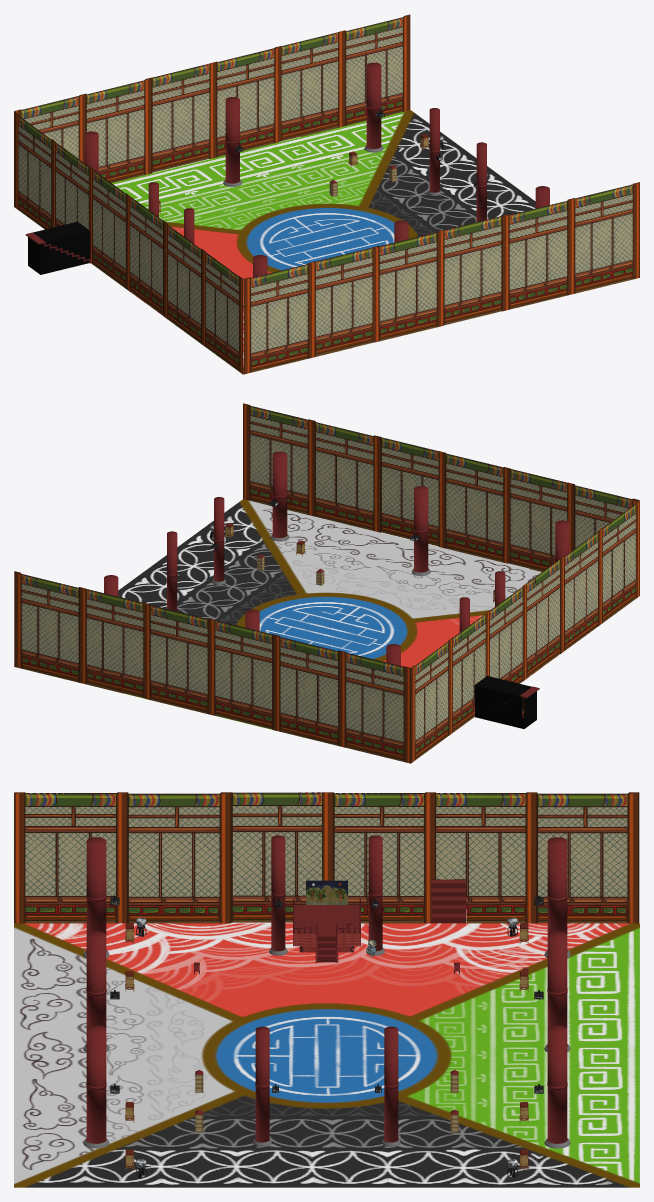
3 views of the same model, one above another, from view 1: azimuth 30°, elevation 25°; view 2: azimuth 150°, elevation 25°; view 3: azimuth 270°, elevation 25° (orthographic). The views are drawn at different scales.
Parts seen in each view (by area): view 1: Plane.001, Plane, Plane.002, Plane.003, Main Pillar.005, Main Pillar.002, Main Pillar.004; view 2: Plane.002, Plane, Plane.001, Plane.003, Main Pillar.005, Main Pillar.002, Main Pillar.004; view 3: Plane, Plane.003, Main Pillar.005, Main Pillar.002, Main Pillar.004, top, Stair.002, Plane.004, Light2.002, Vase, Light2.001, Stair.001.
Boxes of the visible parts, x1,y1,x2,y2 form: Plane.001: (243, 182, 639, 374); Plane: (112, 110, 535, 374); Plane.002: (14, 14, 410, 206); Plane.003: (14, 111, 242, 374); Main Pillar.005: (84, 62, 549, 277); Main Pillar.002: (428, 108, 486, 221); Main Pillar.004: (148, 182, 194, 243); Plane.002: (14, 571, 410, 763); Plane: (118, 499, 560, 729); Plane.001: (243, 403, 639, 571); Plane.003: (411, 500, 639, 763); Main Pillar.005: (104, 451, 569, 665); Main Pillar.002: (167, 497, 225, 611); Main Pillar.004: (459, 571, 505, 632); Plane: (14, 923, 639, 1187); Plane.003: (14, 792, 639, 923); Main Pillar.005: (83, 837, 570, 1148); Main Pillar.002: (253, 1026, 400, 1146); Main Pillar.004: (269, 835, 384, 955); top: (293, 905, 360, 946); Stair.002: (431, 879, 465, 923); Plane.004: (306, 880, 347, 904); Light2.002: (125, 923, 528, 1170); Vase: (136, 917, 517, 1178); Light2.001: (125, 971, 528, 1122); Stair.001: (317, 934, 336, 962).
Size of the model in its own units: 10408 by 2132 by 9200.
